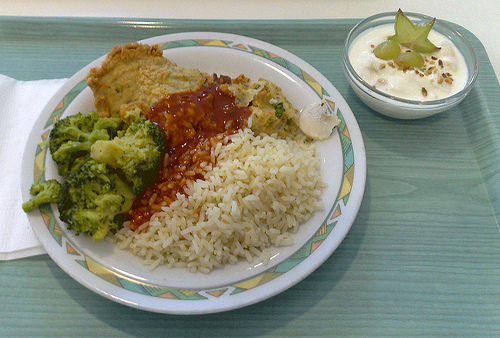broccoli: (89, 117, 167, 197), (62, 160, 133, 239), (50, 111, 88, 162), (20, 177, 68, 215)
